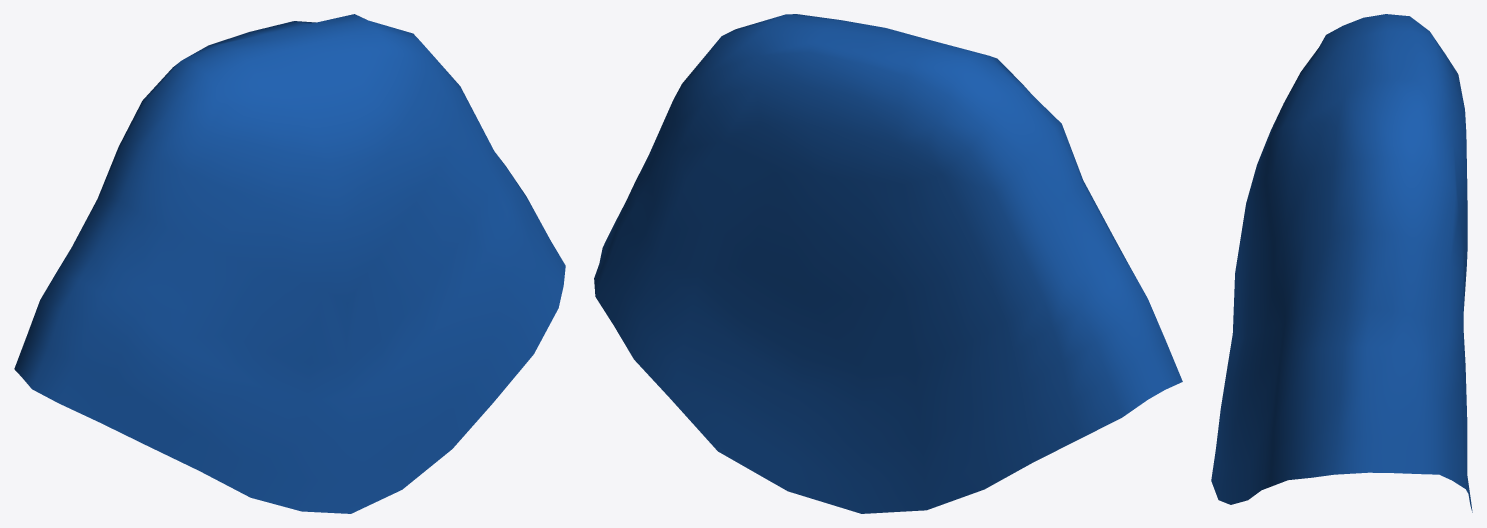
File: poncho_final.fbx
The picture shows the model from 3 angles, left to right: view 1: azimuth 30°, elevation 25°; view 2: azimuth 150°, elevation 25°; view 3: azimuth 270°, elevation 25°; orthographic projection. The views are drawn at different scales.
Visible parts, largest first — view 1: poncho_final1; view 2: poncho_final1; view 3: poncho_final1.
Part boxes in pixels (x1,y1,x2,y2): poncho_final1: [14, 14, 565, 513]; poncho_final1: [594, 14, 1182, 513]; poncho_final1: [1211, 14, 1472, 512].
Size of the model in its own units: 64.86 by 48.19 by 26.27.
